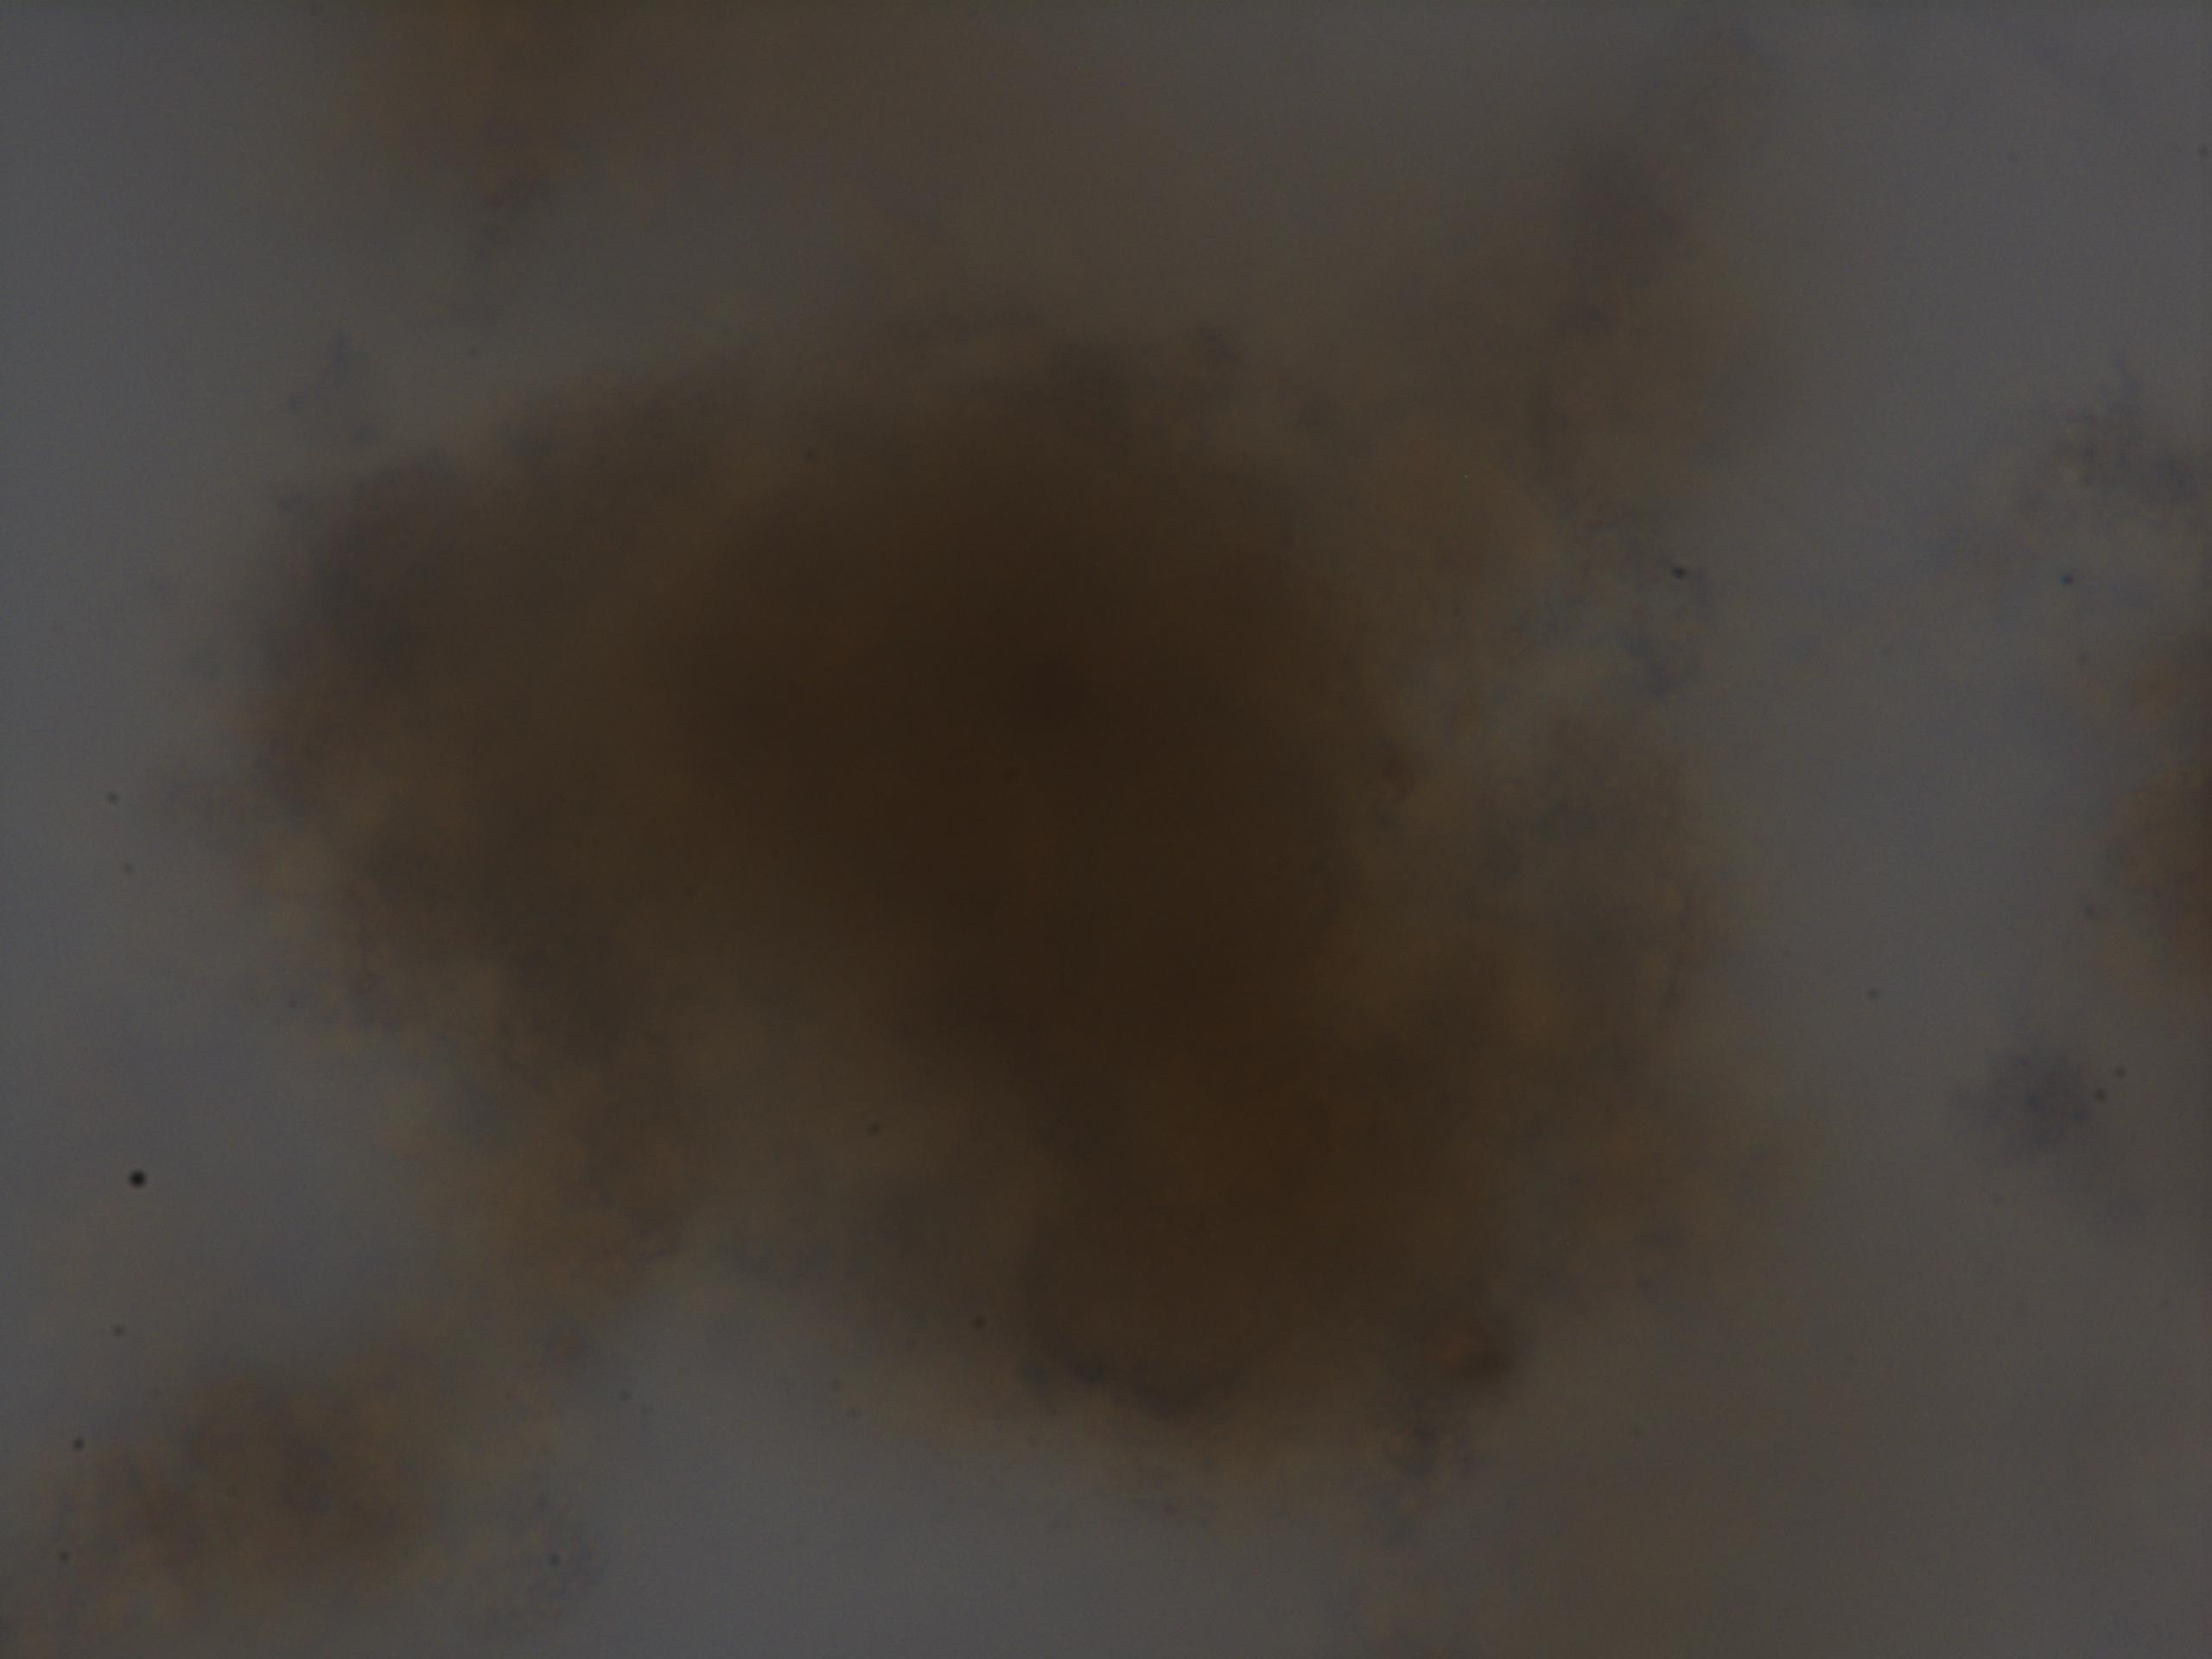spherical_floc: (277, 335, 1583, 1486)
